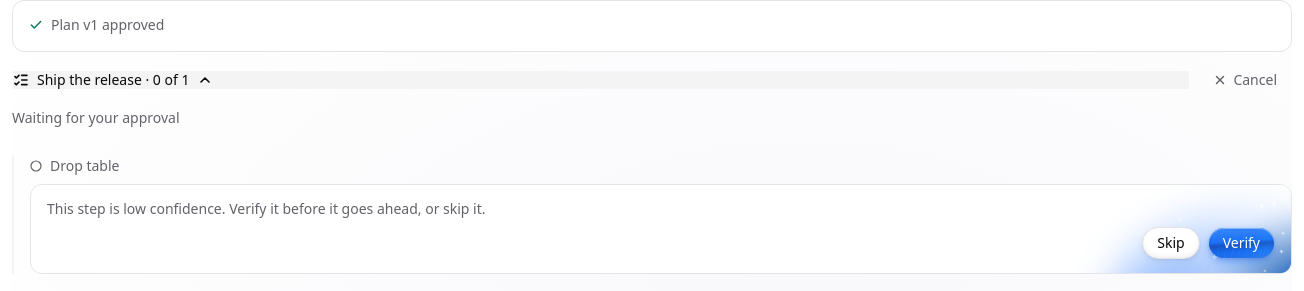
Scenario: RunInline - Task › a low-confidence step asks through a Confirmation: Verify
Expected: the text "low confidence" is shown, [47,199,486,218]
Click the button "Verify" at (1241, 243), box [1208,227,1275,259]
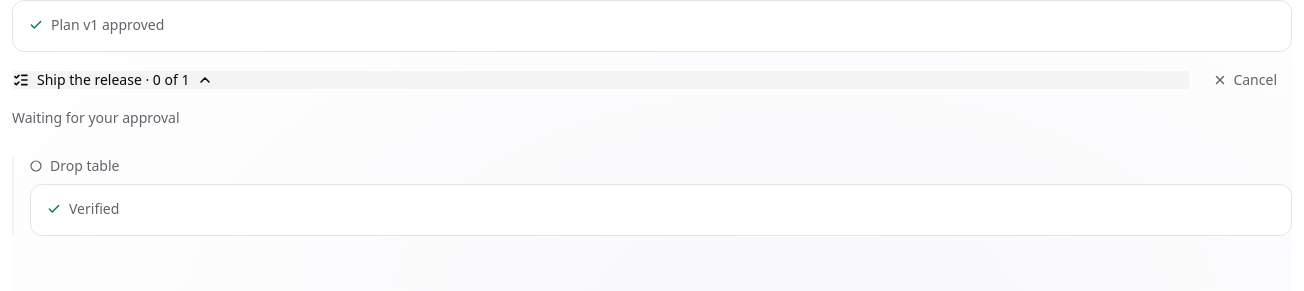
Now the text "Verified" is shown, box [69,199,119,219]
Now the text "Verify" is gone
